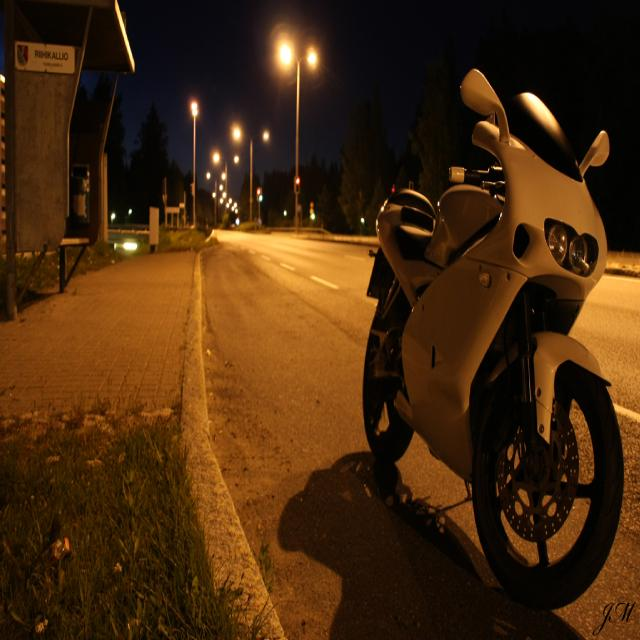Motorbike: (317, 184, 639, 589)
